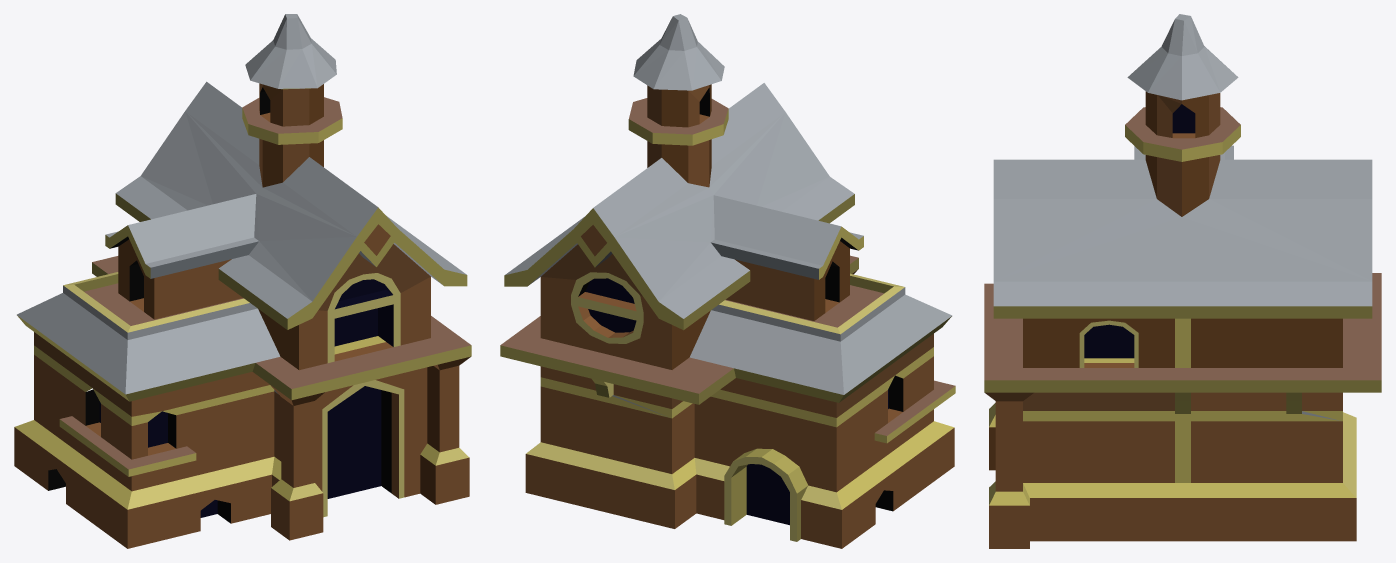
Rendered from menagerie.gltf.
The picture shows the model from 3 angles, left to right: view 1: azimuth 30°, elevation 25°; view 2: azimuth 150°, elevation 25°; view 3: azimuth 270°, elevation 25°; orthographic projection. The views are drawn at different scales.
Bounding box in the file's own units: 174 × 235 × 175.
Materials: 1 (1 with a texture image).
